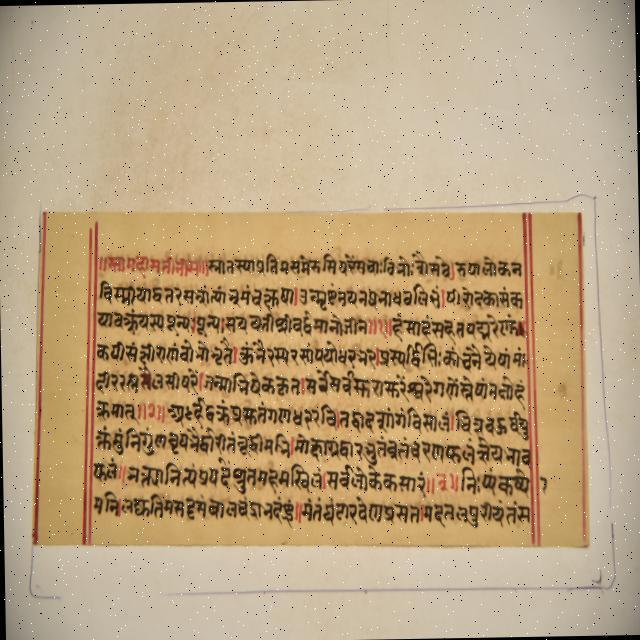text_paragraph: (29, 211, 588, 551)
